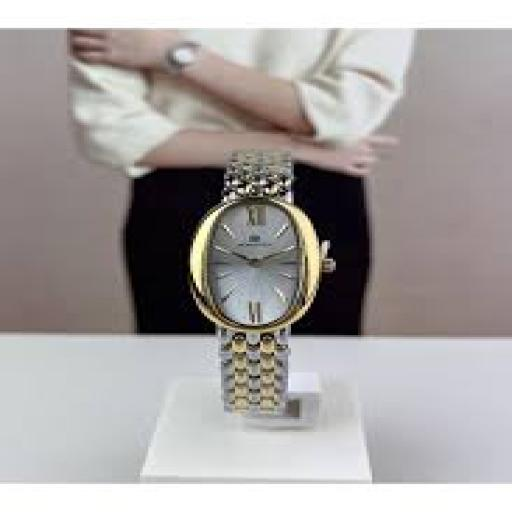KolSaati: (164, 136, 356, 440)
